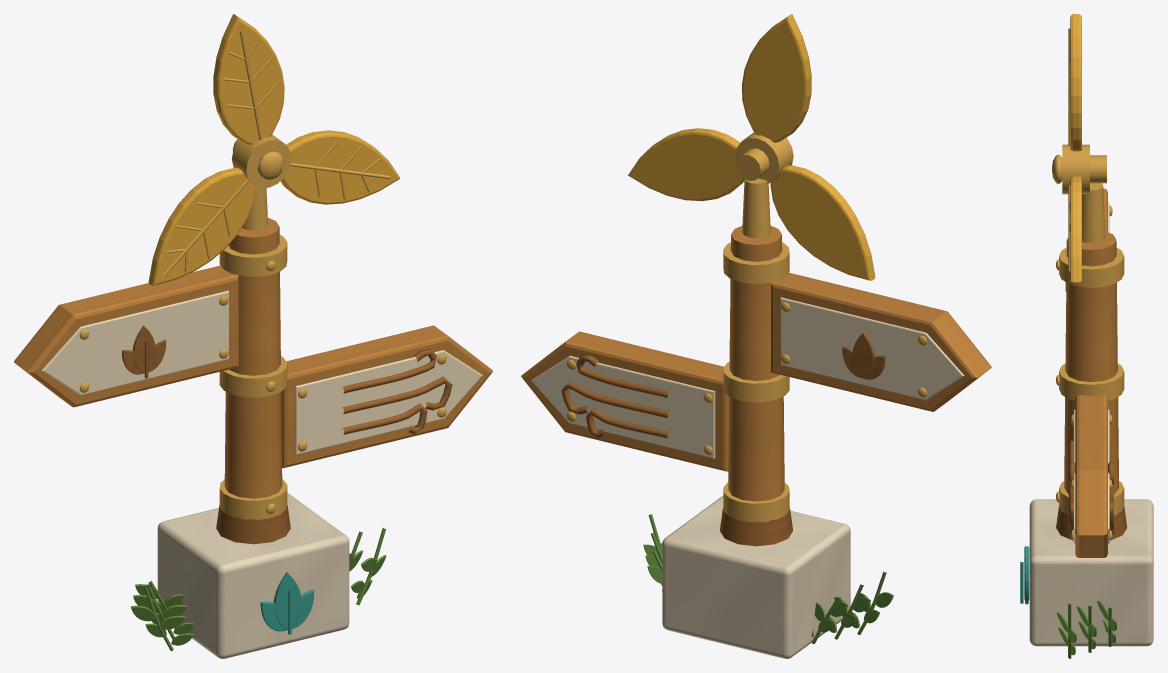
The model's file is wind-leaf-waymarker.glb.
3 views of the same model, side by side, from view 1: azimuth 30°, elevation 25°; view 2: azimuth 150°, elevation 25°; view 3: azimuth 270°, elevation 25° (orthographic). The views are drawn at different scales.
Visible parts, largest first — view 1: waymarker-frame-tree-bench-stone, waymarker-rotor-waymarker-golden-leaf, waymarker-frame-tree-bench-wood, waymarker-leaf-arrow-waymarker-sign-face, waymarker-leaf-arrow-tree-bench-wood, waymarker-wind-arrow-waymarker-sign-face, waymarker-wind-arrow-tree-bench-wood, waymarker-frame-tree-bench-brass, waymarker-rotor-tree-bench-brass, waymarker-frame-waymarker-ferns, waymarker-wind-arrow-tree-bench-frame, waymarker-frame-tree-bench-leaf (+2 smaller); view 2: waymarker-frame-tree-bench-stone, waymarker-rotor-waymarker-golden-leaf, waymarker-frame-tree-bench-wood, waymarker-leaf-arrow-waymarker-sign-face, waymarker-leaf-arrow-tree-bench-wood, waymarker-wind-arrow-waymarker-sign-face, waymarker-wind-arrow-tree-bench-wood, waymarker-frame-tree-bench-brass, waymarker-wind-arrow-tree-bench-frame, waymarker-frame-waymarker-ferns, waymarker-frame-tree-bench-frame, waymarker-rotor-tree-bench-brass (+1 smaller); view 3: waymarker-frame-tree-bench-stone, waymarker-frame-tree-bench-wood, waymarker-wind-arrow-tree-bench-wood, waymarker-frame-tree-bench-brass, waymarker-rotor-waymarker-golden-leaf, waymarker-rotor-tree-bench-brass, waymarker-frame-waymarker-ferns, waymarker-wind-arrow-tree-bench-frame, waymarker-frame-tree-bench-frame, waymarker-wind-arrow-waymarker-sign-face, waymarker-frame-tree-bench-leaf.
Boxes of the visible parts, box(x1,y1,x2,y2) form: waymarker-frame-tree-bench-stone: box(157, 493, 349, 658); waymarker-rotor-waymarker-golden-leaf: box(148, 14, 400, 285); waymarker-frame-tree-bench-wood: box(224, 218, 282, 498); waymarker-leaf-arrow-waymarker-sign-face: box(42, 290, 228, 395); waymarker-leaf-arrow-tree-bench-wood: box(14, 265, 238, 407); waymarker-wind-arrow-waymarker-sign-face: box(295, 350, 482, 454); waymarker-wind-arrow-tree-bench-wood: box(281, 325, 492, 468); waymarker-frame-tree-bench-brass: box(219, 139, 287, 519); waymarker-rotor-tree-bench-brass: box(163, 30, 390, 276); waymarker-frame-waymarker-ferns: box(131, 528, 386, 651); waymarker-wind-arrow-tree-bench-frame: box(342, 349, 452, 434); waymarker-frame-tree-bench-leaf: box(260, 572, 314, 634); waymarker-frame-tree-bench-stone: box(662, 496, 850, 658); waymarker-rotor-waymarker-golden-leaf: box(628, 14, 875, 280); waymarker-frame-tree-bench-wood: box(728, 226, 784, 501); waymarker-leaf-arrow-waymarker-sign-face: box(780, 297, 964, 400); waymarker-leaf-arrow-tree-bench-wood: box(771, 272, 991, 411); waymarker-wind-arrow-waymarker-sign-face: box(531, 356, 715, 458); waymarker-wind-arrow-tree-bench-wood: box(521, 331, 729, 471); waymarker-frame-tree-bench-brass: box(723, 148, 789, 522); waymarker-wind-arrow-tree-bench-frame: box(561, 354, 669, 438); waymarker-frame-waymarker-ferns: box(643, 514, 893, 643); waymarker-frame-tree-bench-frame: box(720, 507, 792, 546); waymarker-rotor-tree-bench-brass: box(735, 132, 793, 183); waymarker-frame-tree-bench-stone: box(1029, 499, 1153, 646); waymarker-frame-tree-bench-wood: box(1064, 231, 1118, 493); waymarker-wind-arrow-tree-bench-wood: box(1075, 395, 1107, 557); waymarker-frame-tree-bench-brass: box(1056, 155, 1124, 515); waymarker-rotor-waymarker-golden-leaf: box(1070, 14, 1081, 282); waymarker-rotor-tree-bench-brass: box(1052, 28, 1089, 271); waymarker-frame-waymarker-ferns: box(1056, 600, 1116, 658); waymarker-wind-arrow-tree-bench-frame: box(1068, 440, 1113, 534); waymarker-frame-tree-bench-frame: box(1056, 506, 1127, 540); waymarker-wind-arrow-waymarker-sign-face: box(1073, 409, 1109, 543); waymarker-frame-tree-bench-leaf: box(1020, 546, 1029, 604).
Bounding box in the file's own units: 3.31 × 4.21 × 0.86.
Materials: 8 (3 with a texture image).
